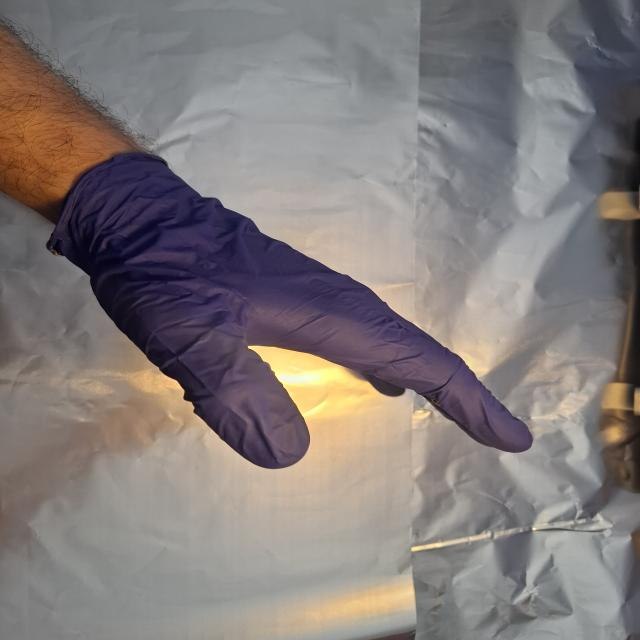glove_on: (42, 146, 539, 468)
